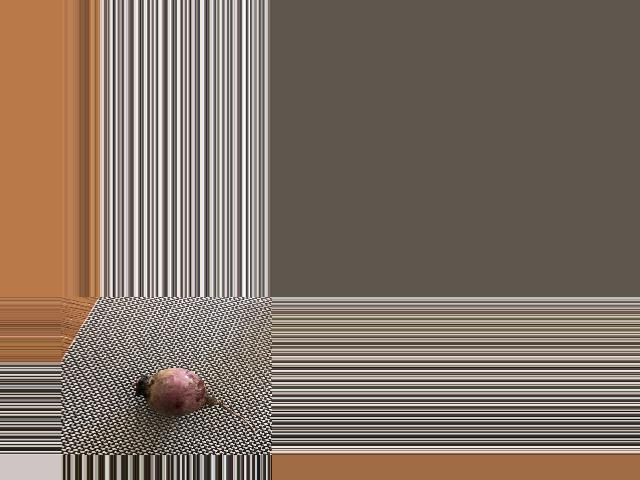beet: (131, 369, 256, 435)
